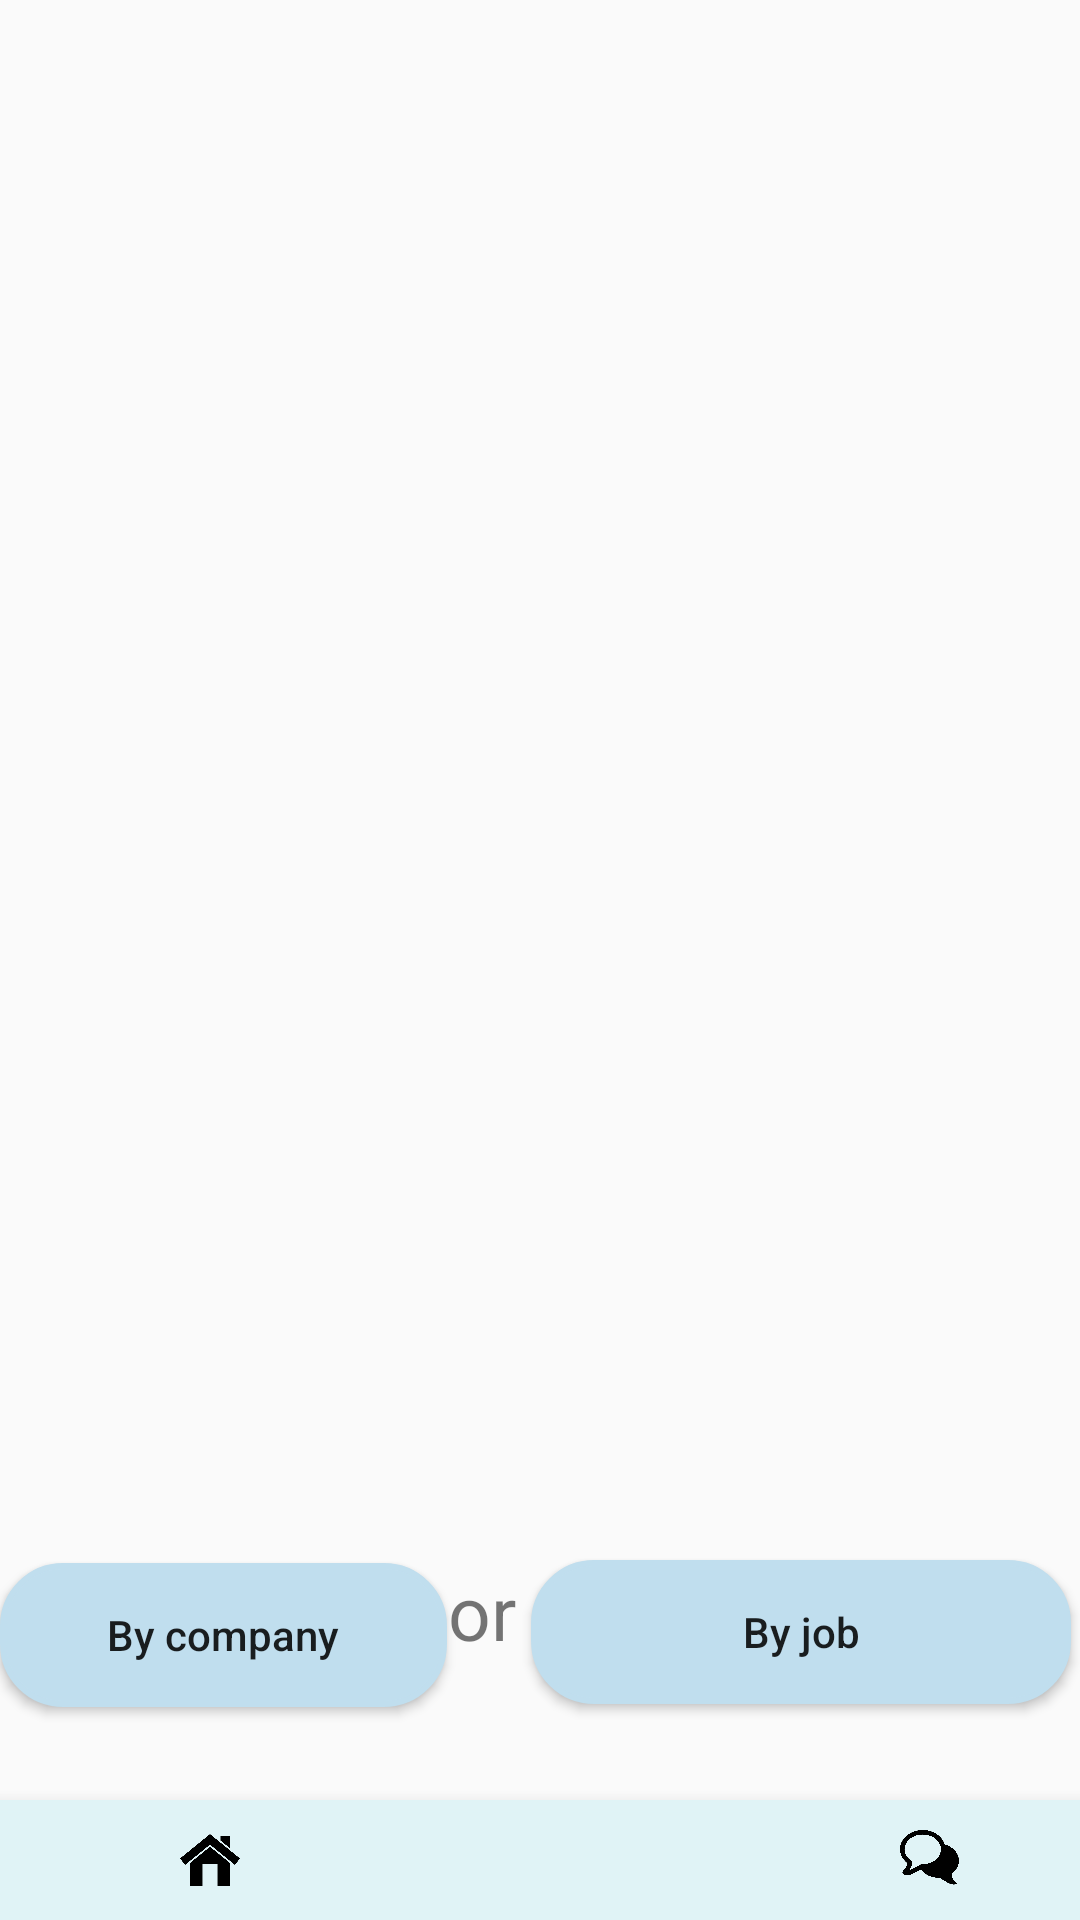

Icon bounding boxes for this 1080*1920 phone screenshot, format (x1, y1, x2, y2):
chat: (900, 1830, 959, 1885)
